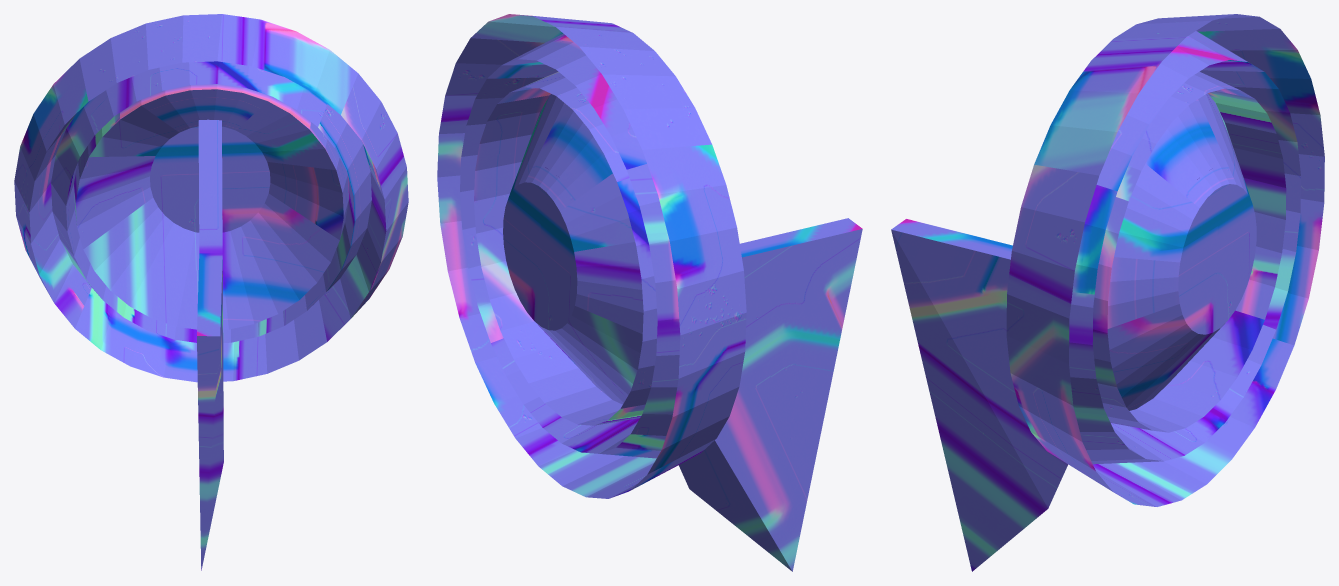
Rendered from radar16.obj.
3 views of the same model, side by side, from view 1: azimuth 30°, elevation 25°; view 2: azimuth 150°, elevation 25°; view 3: azimuth 270°, elevation 25° (orthographic). The views are drawn at different scales.
Parts seen in each view (by area): view 1: radar; view 2: radar; view 3: radar.
Boxes of the visible parts, left/top/right/bottom form: radar: left=14, top=14, right=408, bottom=570; radar: left=437, top=14, right=862, bottom=571; radar: left=891, top=14, right=1324, bottom=571.
Bounding box in the file's own units: 0.9052 × 1.3 × 0.8514.
